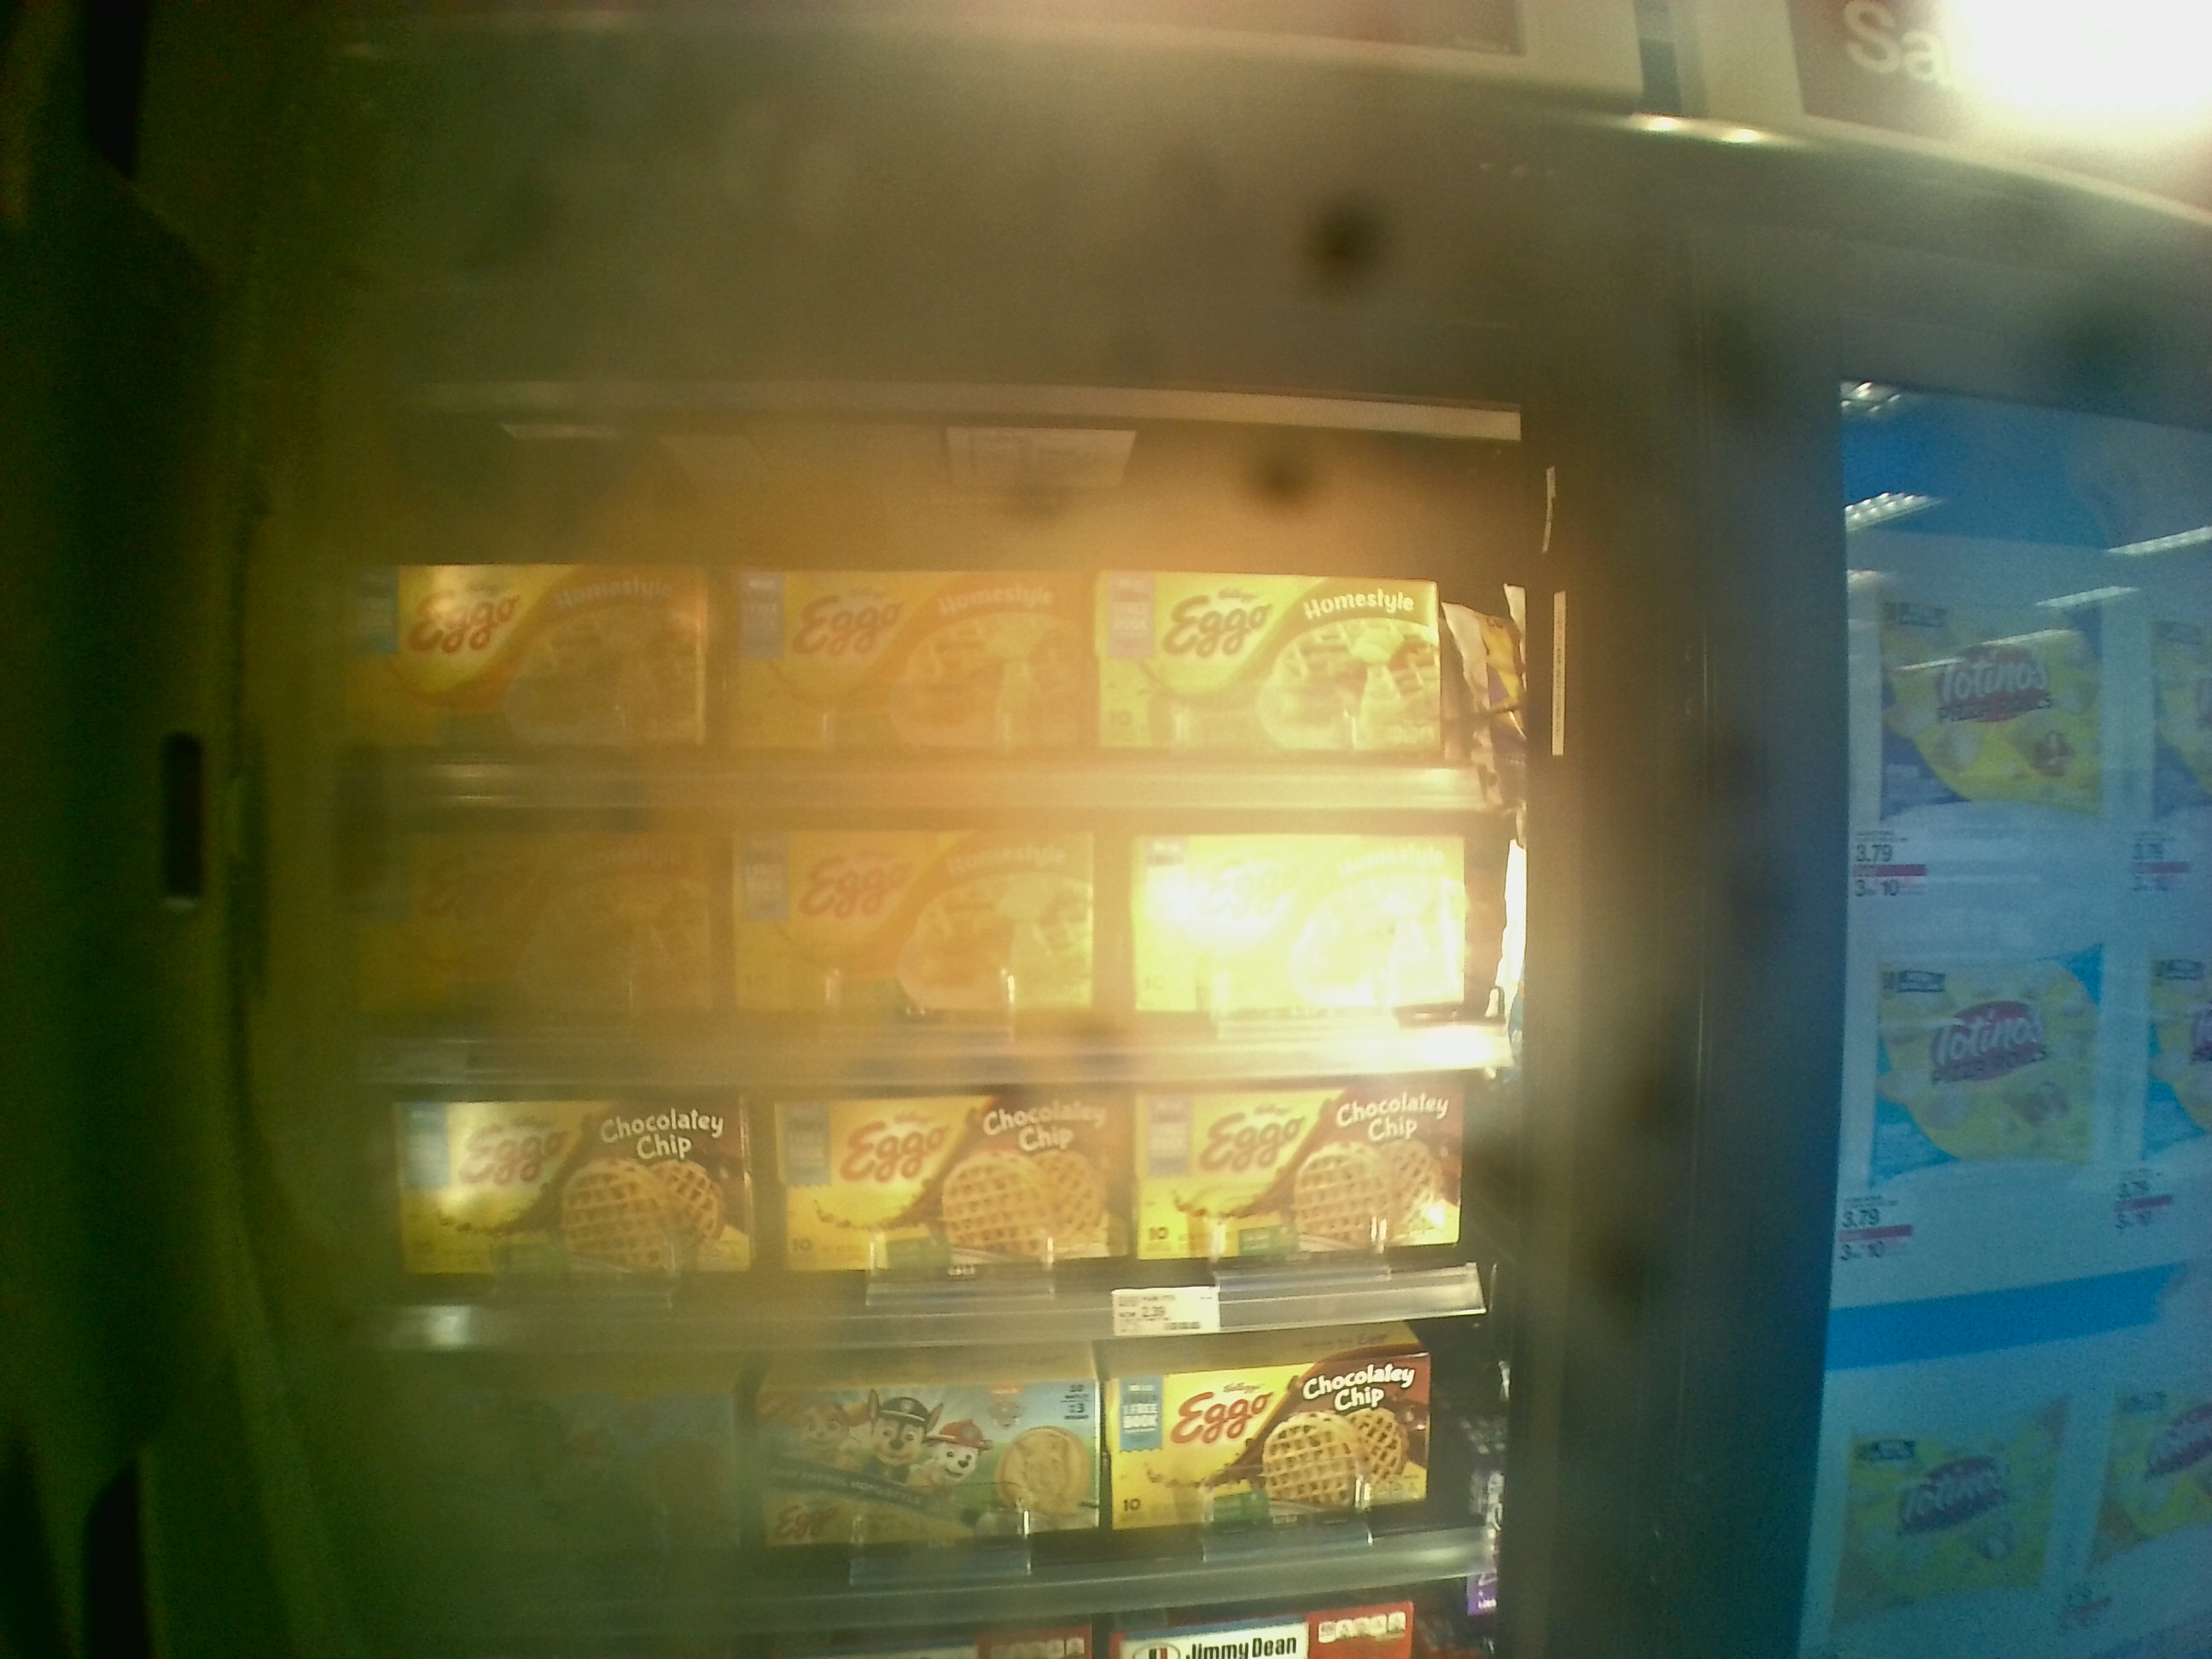frozen-food-shelf: (329, 380, 1503, 796), (376, 1068, 1491, 1344)
